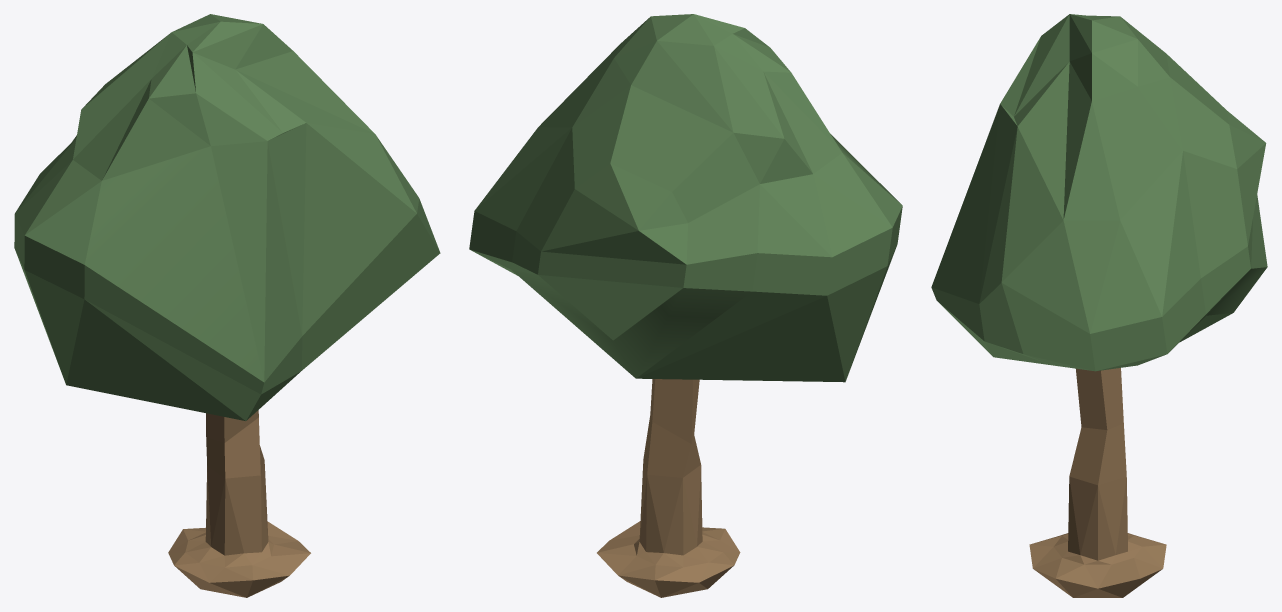
Rendered from Tree_001.fbx.
3 renders of one model, left to right at view 1: azimuth 30°, elevation 25°; view 2: azimuth 150°, elevation 25°; view 3: azimuth 270°, elevation 25°, orthographic. The views are drawn at different scales.
Parts seen in each view (by area): view 1: Icosphere.001, Icosphere; view 2: Icosphere.001, Icosphere; view 3: Icosphere.001, Icosphere.
Boxes of the visible parts, bbox=[...] form: Icosphere.001: bbox=[14, 14, 440, 420]; Icosphere: bbox=[168, 410, 310, 597]; Icosphere.001: bbox=[469, 14, 902, 382]; Icosphere: bbox=[597, 379, 740, 597]; Icosphere.001: bbox=[931, 14, 1267, 371]; Icosphere: bbox=[1029, 368, 1166, 597].
Size of the model in its own units: 1848 by 2564 by 1385.
